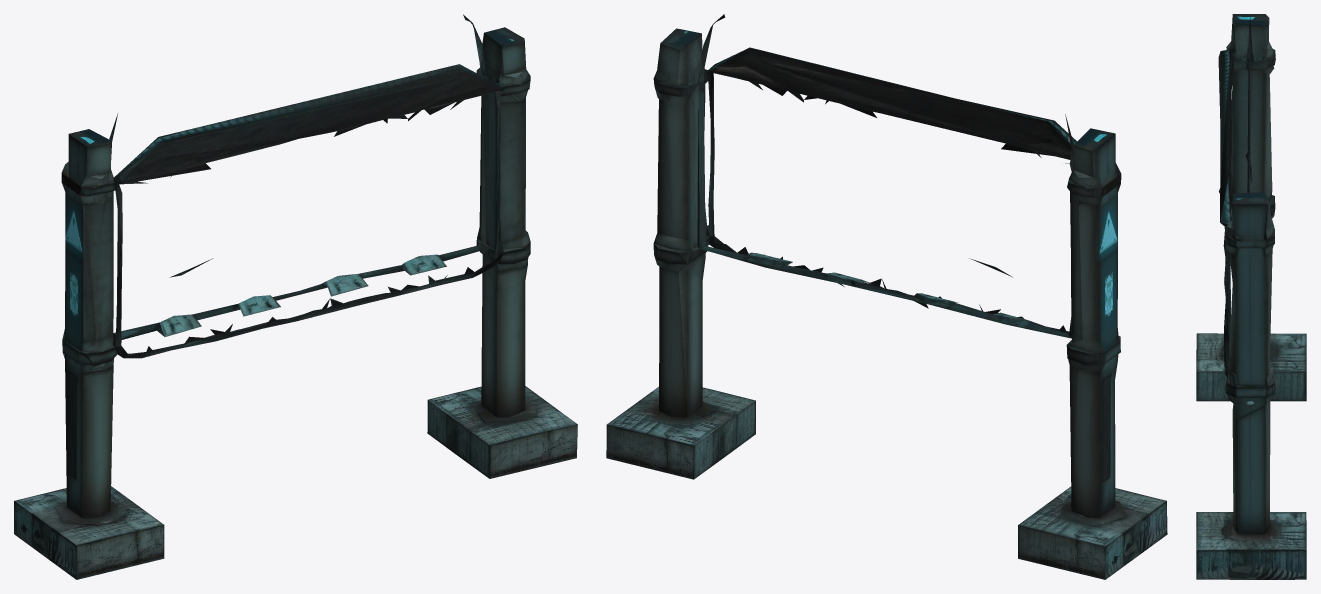
The model's file is BS_Map_ChainlinkFenceSegment_final.glb.
The picture shows the model from 3 angles, left to right: view 1: azimuth 30°, elevation 25°; view 2: azimuth 150°, elevation 25°; view 3: azimuth 270°, elevation 25°; orthographic projection. The views are drawn at different scales.
Size of the model in its own units: 1.9 by 1.61 by 0.41.
1 material, 1 textured.
